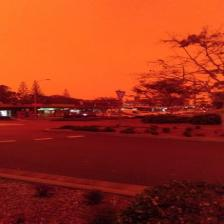orange: (1, 0, 224, 99)
